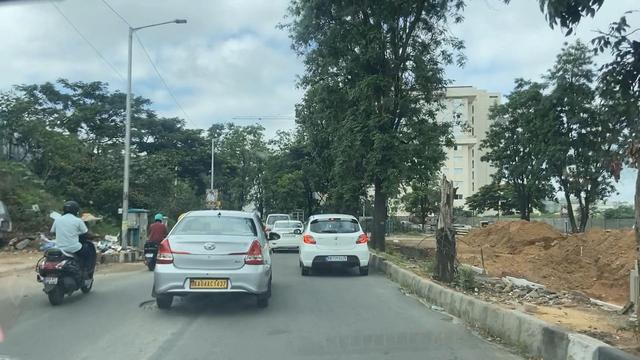LMV: (163, 233, 271, 303), (49, 203, 96, 300), (303, 216, 368, 272)
